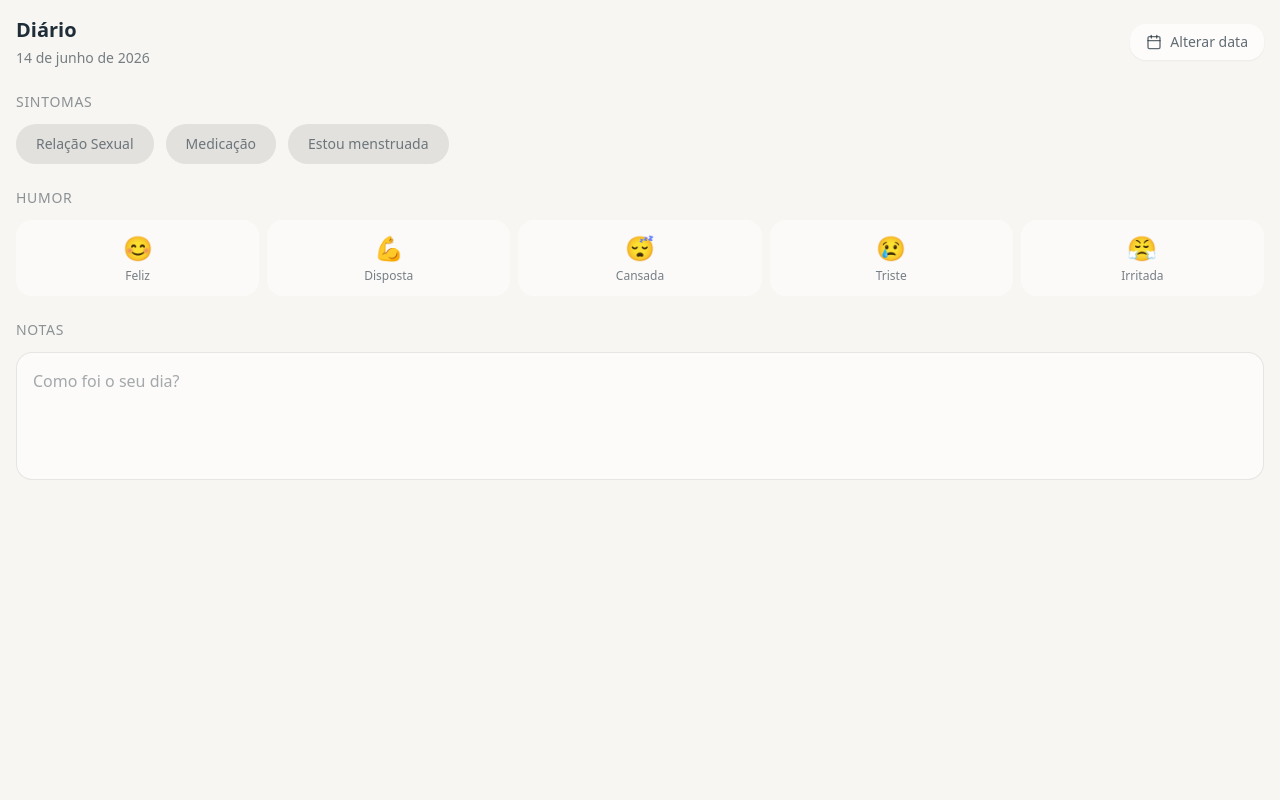
LogView.vue — Correção 2: Date picker reativo › mostra toast "Salvo na sua maré" após salvar
expect the text "Salvo na sua maré" is not shown: met
Click the button "Relação Sexual" at coordinates (85, 144), box [16,124,154,164]
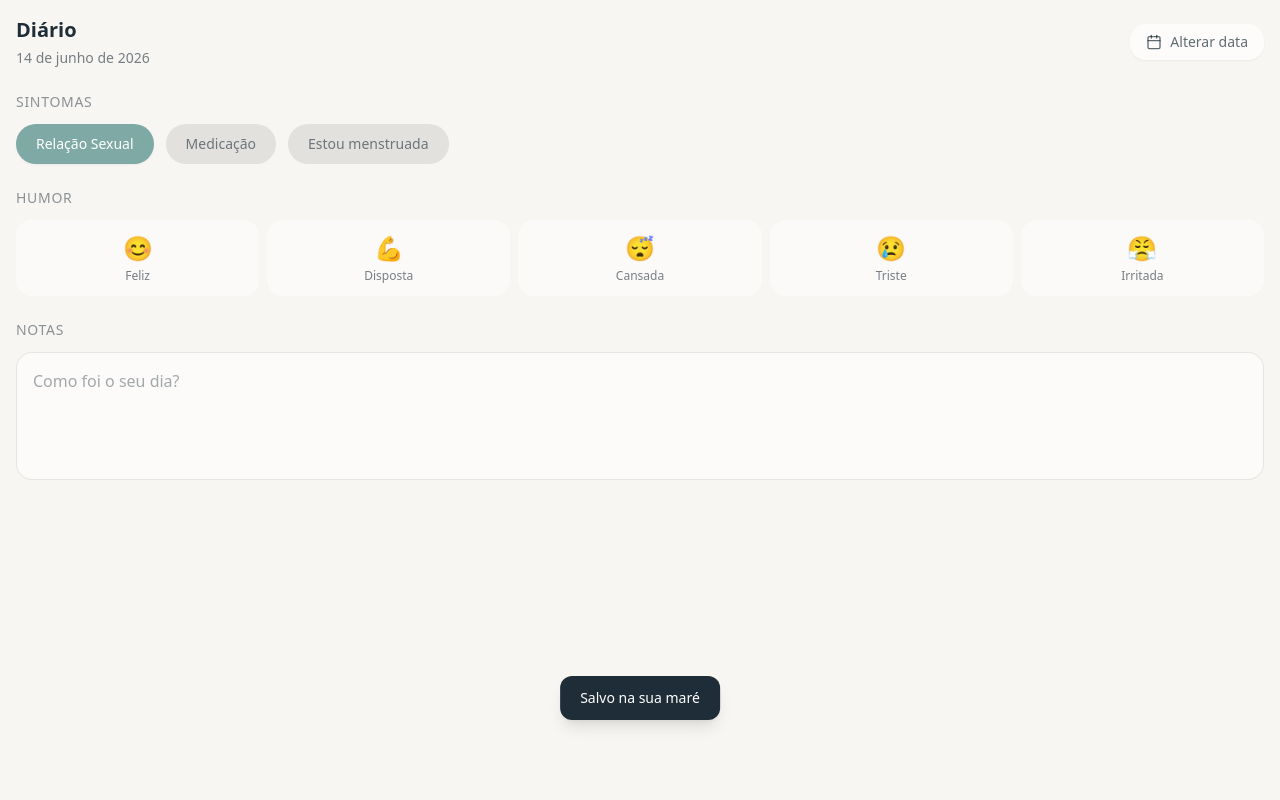
expect the text "Salvo na sua maré" is shown: met, box [560,676,720,720]
